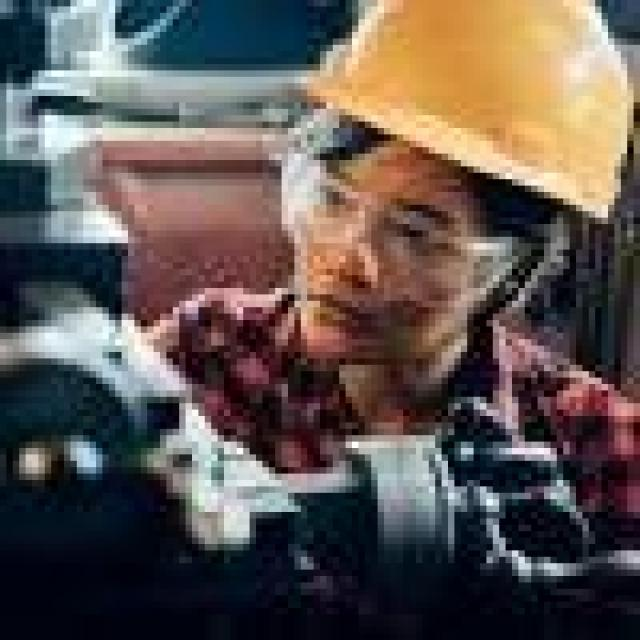Safety-Helmet: (275, 0, 640, 230)
